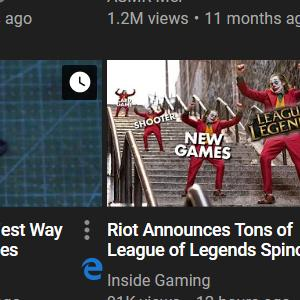edge: (80, 257, 103, 281)
